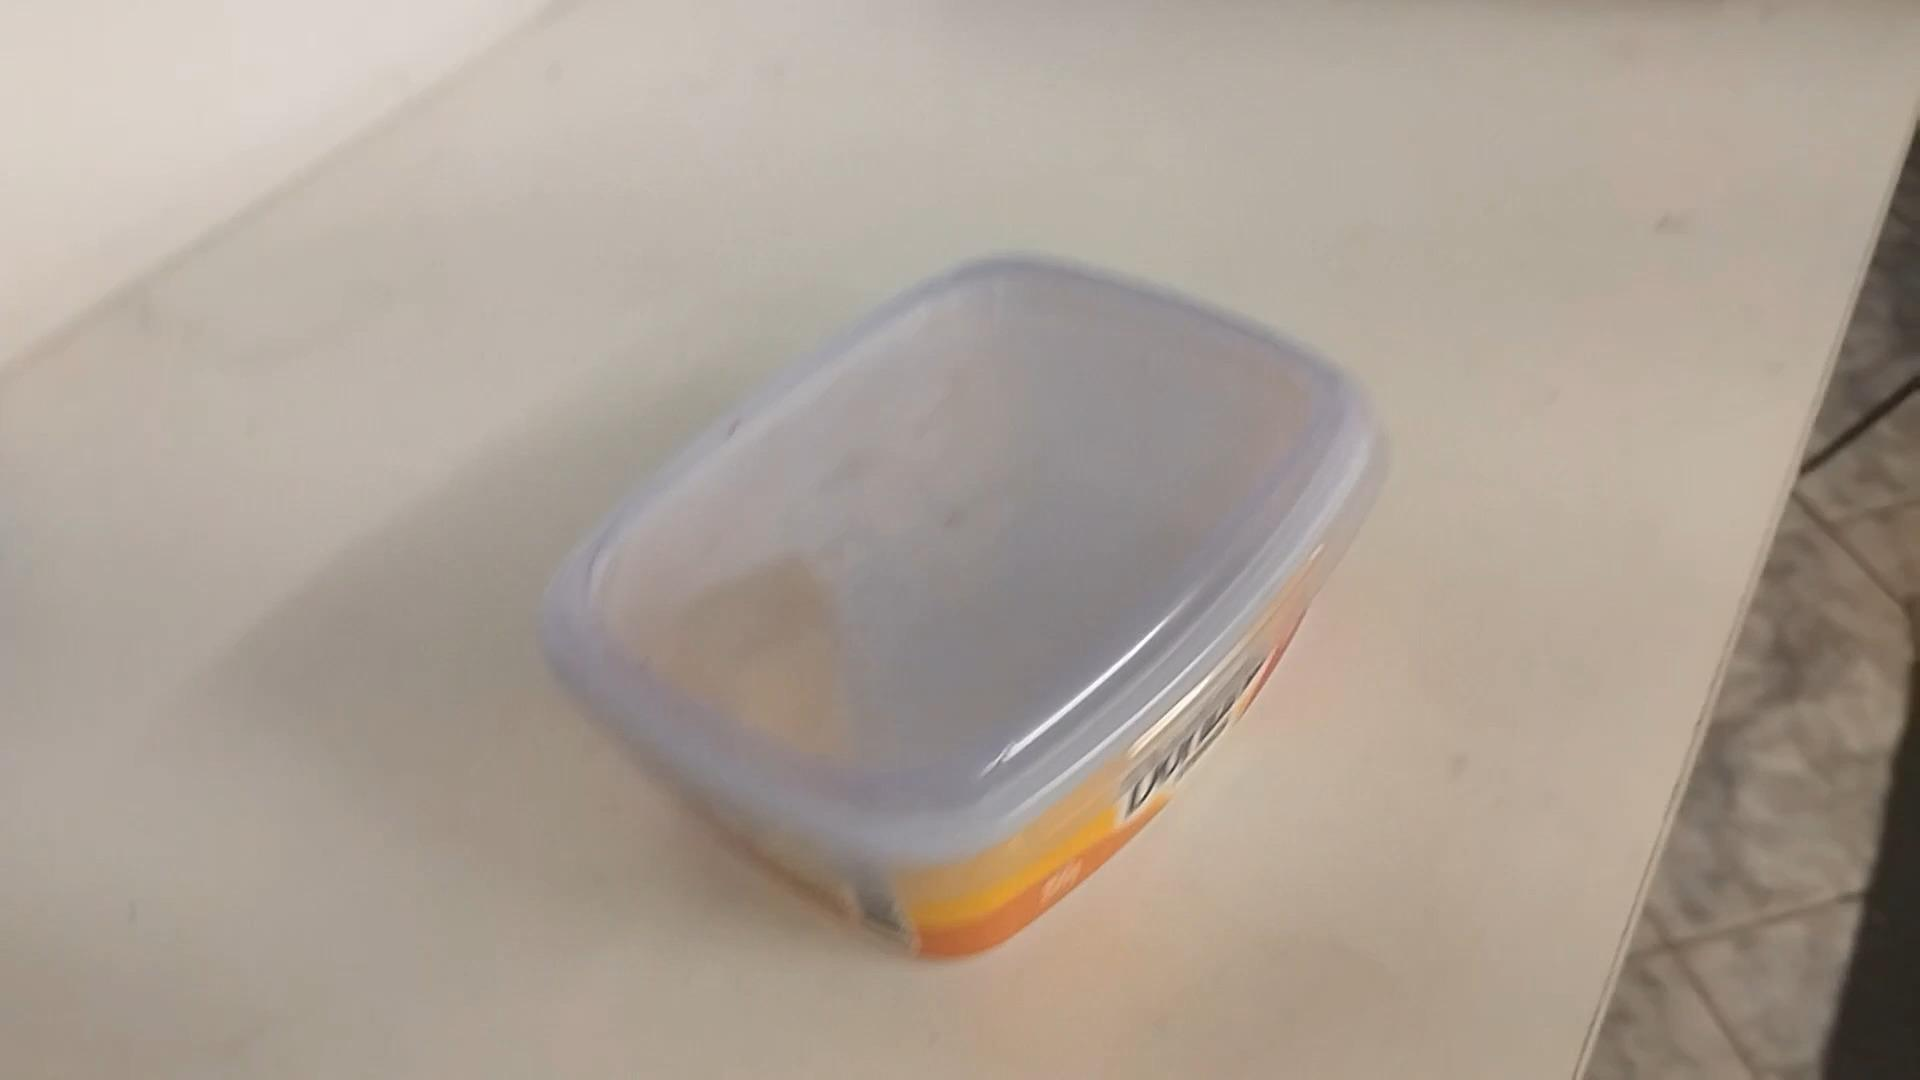butter: (535, 256, 1374, 963)
